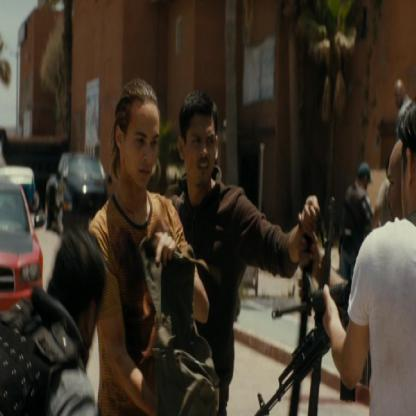Guns: (246, 195, 370, 415)
